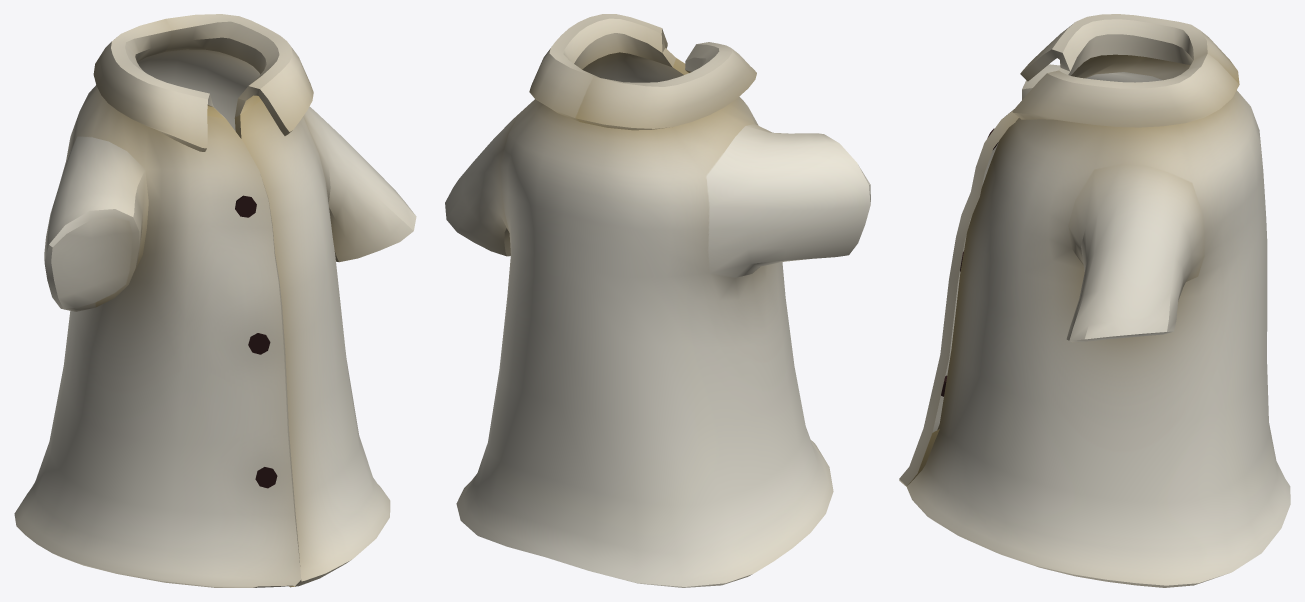
Rendered from TShirt.fbx.
The picture shows the model from 3 angles, left to right: view 1: azimuth 30°, elevation 25°; view 2: azimuth 150°, elevation 25°; view 3: azimuth 270°, elevation 25°; orthographic projection.
Parts seen in each view (by area): view 1: TShirt; view 2: TShirt; view 3: TShirt.
Part boxes in pixels (left/top/right/bottom): TShirt: left=14, top=14, right=416, bottom=587; TShirt: left=445, top=14, right=870, bottom=587; TShirt: left=899, top=14, right=1290, bottom=587.
Bounding box in the file's own units: 1.14 × 1.31 × 0.9997.
